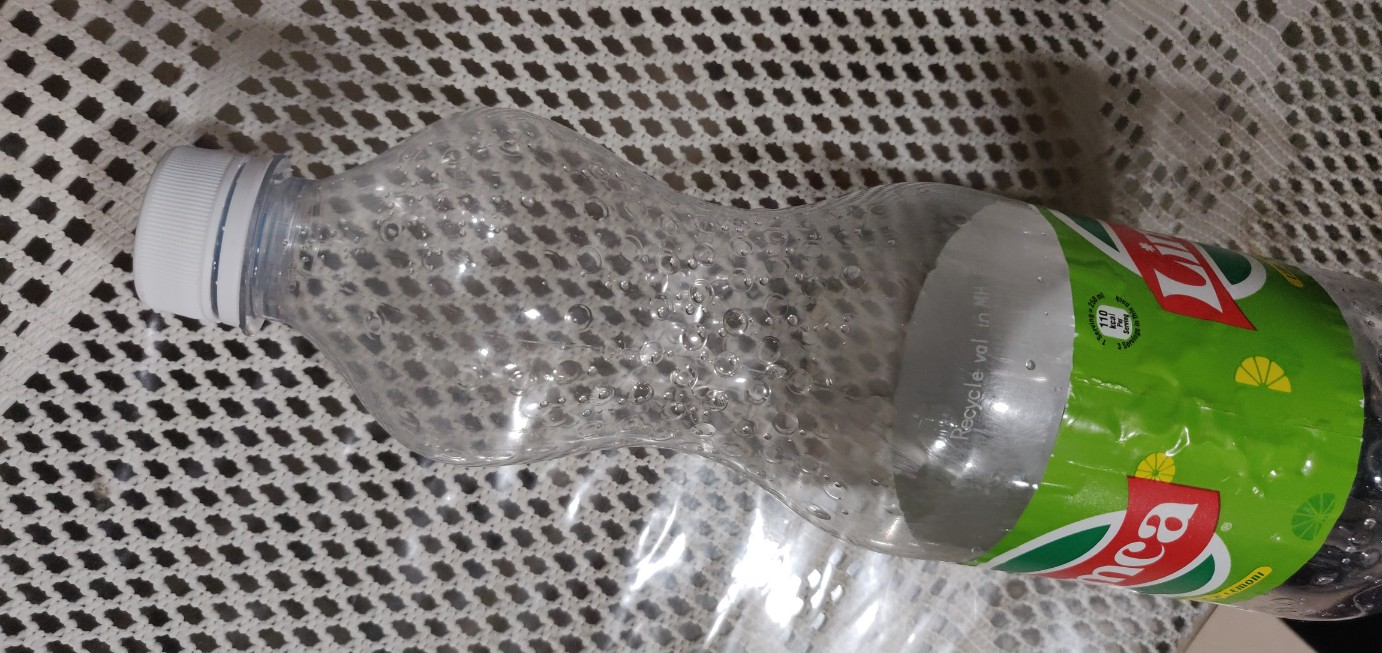Electronics: (99, 74, 1382, 645)
